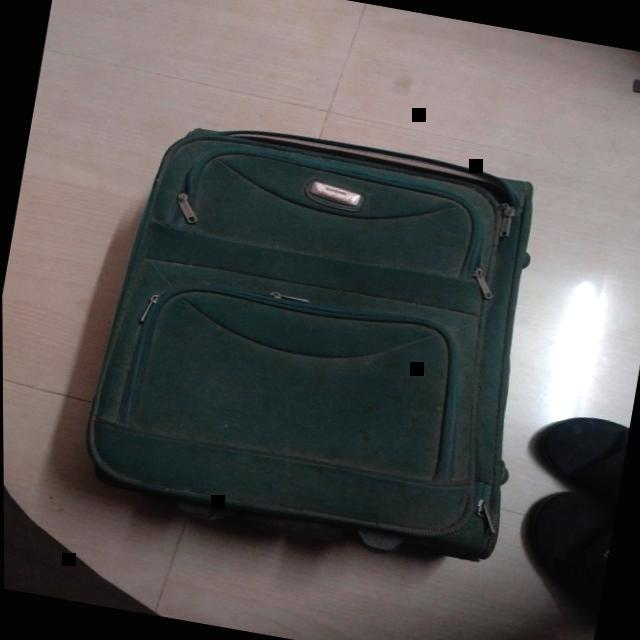luggage: (59, 98, 573, 590)
